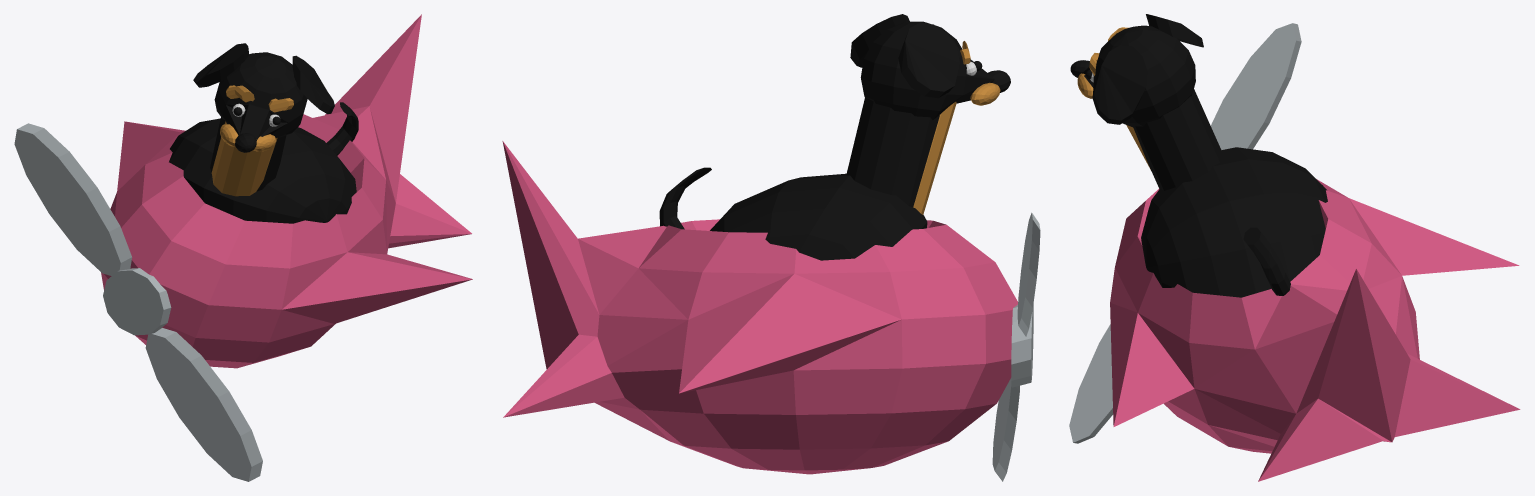
3 renders of one model, left to right at view 1: azimuth 30°, elevation 25°; view 2: azimuth 150°, elevation 25°; view 3: azimuth 270°, elevation 25°, orthographic. The views are drawn at different scales.
Parts seen in each view (by area): view 1: node_MeshObject472270656-PolyPaper7; view 2: node_MeshObject472270656-PolyPaper7; view 3: node_MeshObject472270656-PolyPaper7.
Part boxes in pixels (box(x1,y1,x2,y2)): node_MeshObject472270656-PolyPaper7: box(14, 14, 472, 481); node_MeshObject472270656-PolyPaper7: box(502, 14, 1040, 481); node_MeshObject472270656-PolyPaper7: box(1069, 14, 1520, 481).
Bounding box in the file's own units: 1.13 × 0.9928 × 0.9105.
